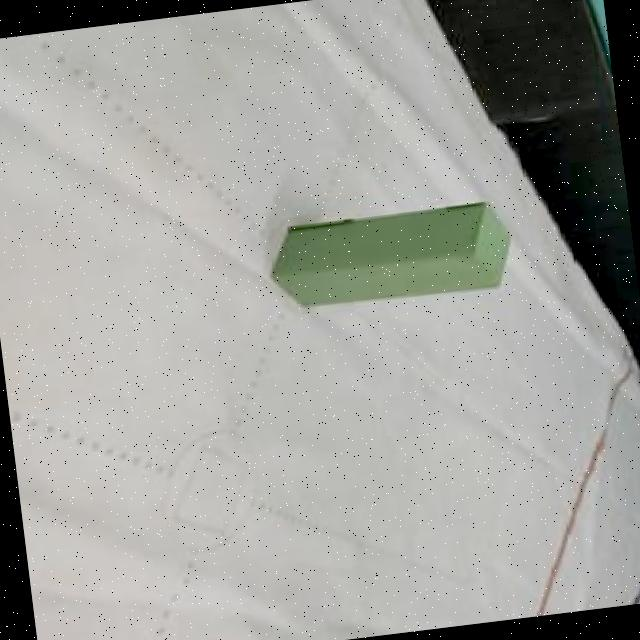greenbox: (271, 199, 514, 316)
